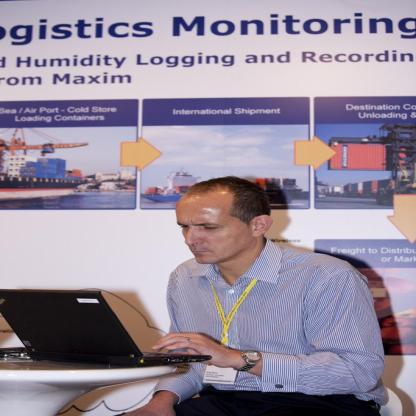board: (1, 294, 213, 393)
